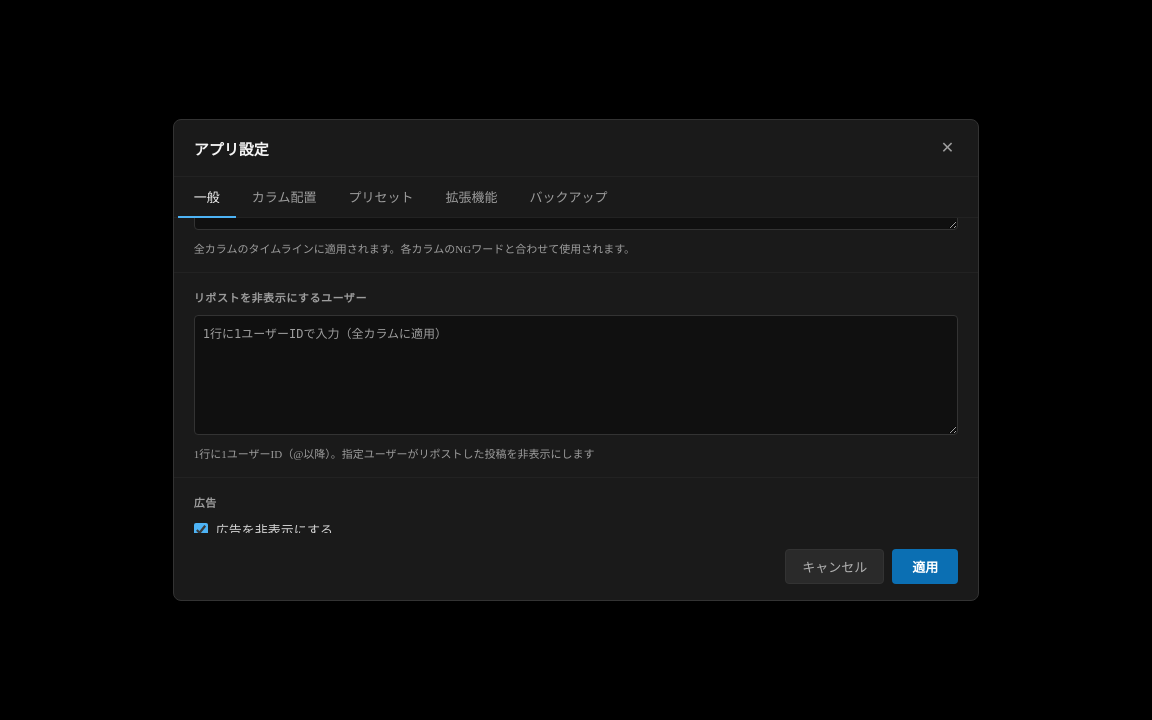
Test: AppSettingsPanel リポストを非表示にするユーザー › 不正なID行を修正して再度適用するとエラーが消えてonApplyとonCloseが呼ばれる
The width and height of the screenshot is (1152, 720).
(page scrolled)
Type "bad-id!" into the text box named "リポストを非表示にするユーザー".
click(576, 375); type("bad-id!")  # box [194,315,958,435]
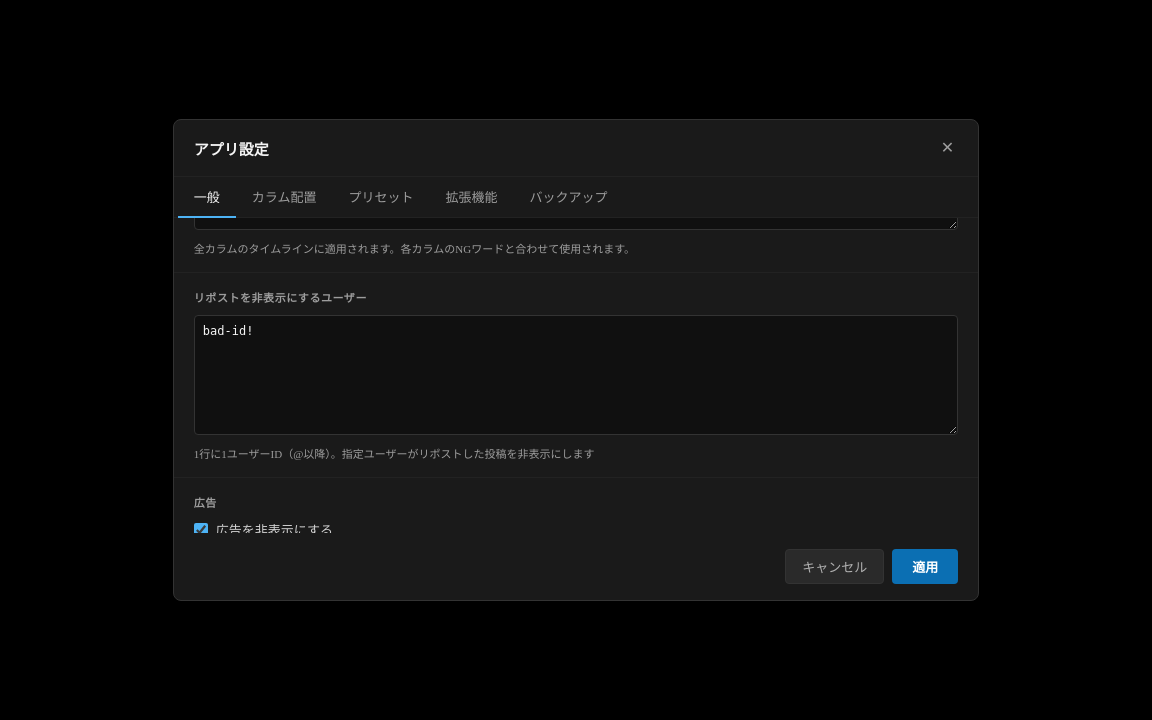
Click the button "適用".
click(925, 566)  # box [892,549,958,584]
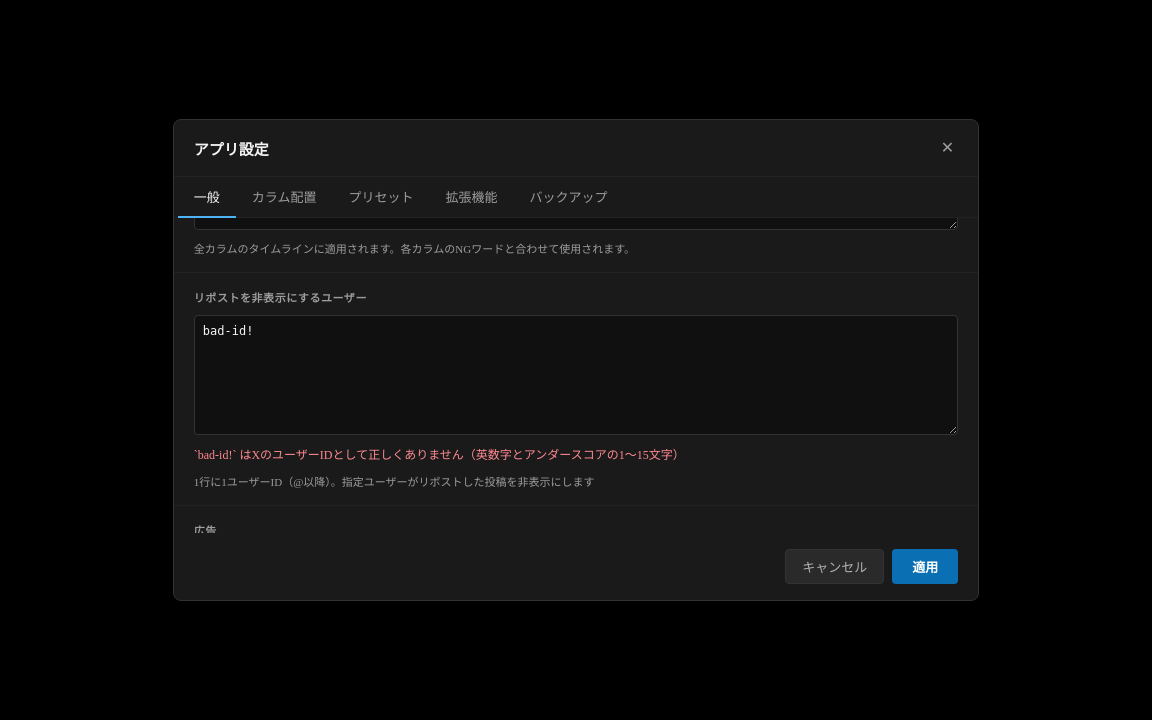
Replace the text in the text box named "リポストを非表示にするユーザー" with "good_id" at (576, 375), box [194,315,958,435]
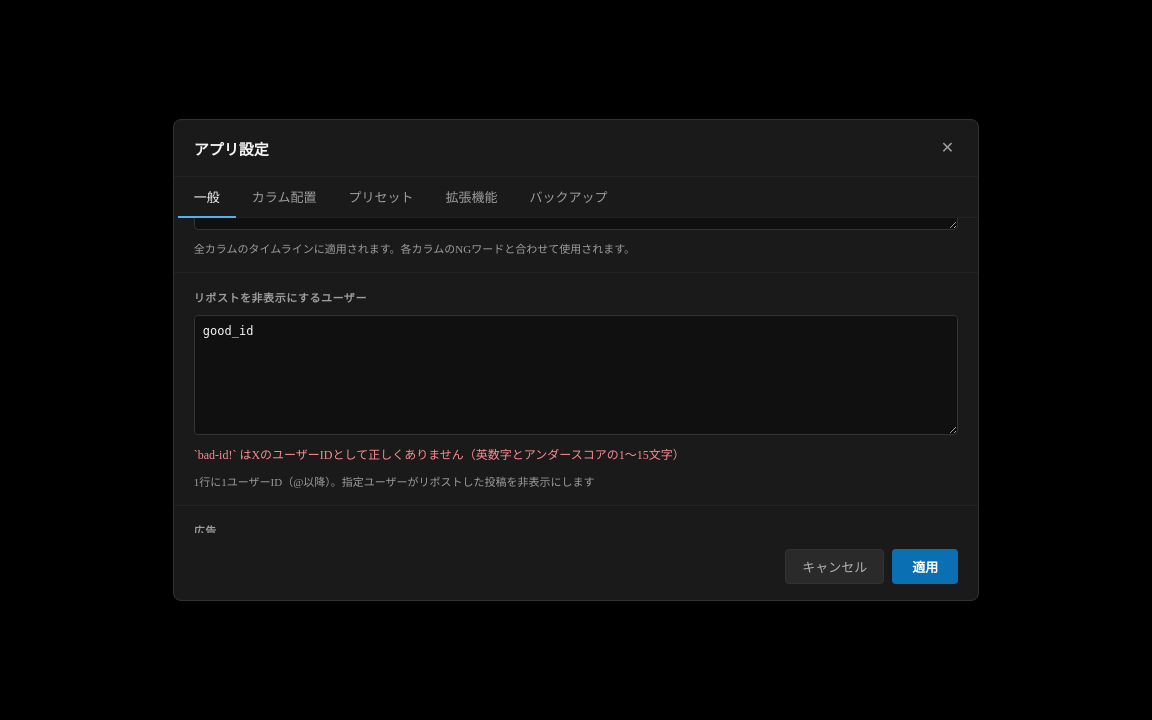
Click the button "適用".
click(925, 566)  # box [892,549,958,584]
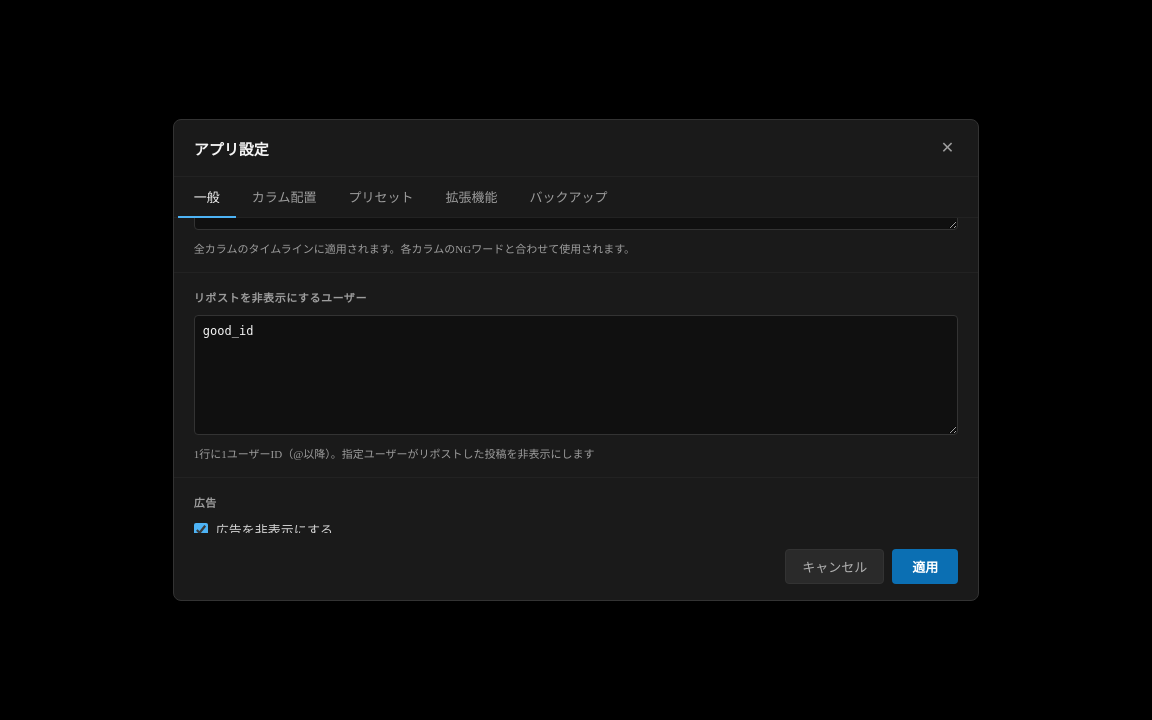
Now the text "ユーザーIDとして正しくありません" is gone
